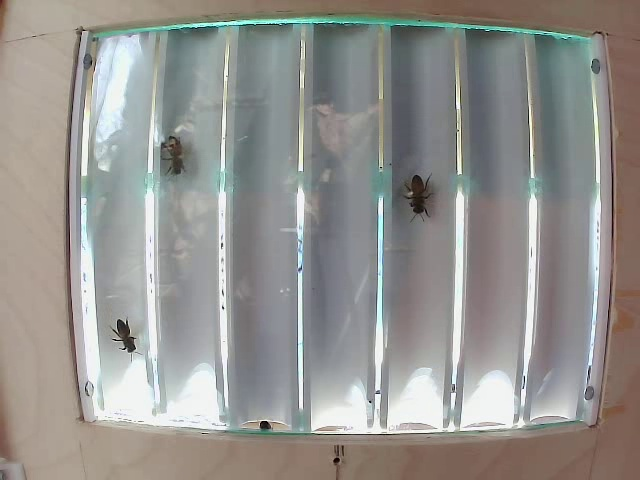bee: (146, 123, 188, 179), (403, 167, 438, 224), (108, 317, 145, 362)
